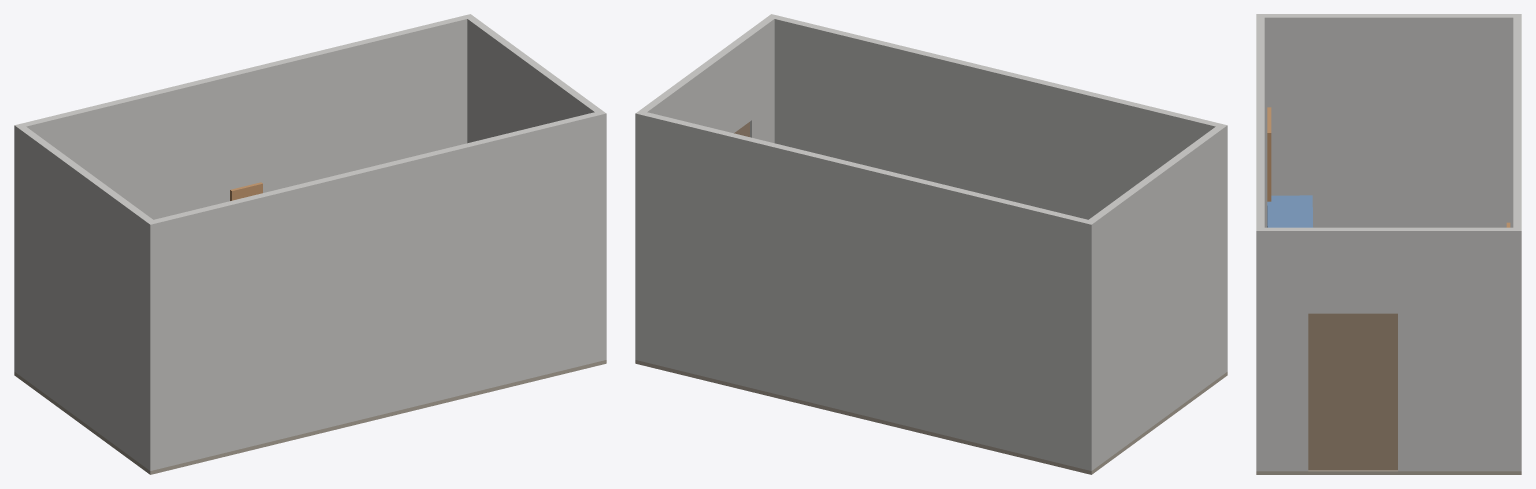
File: room_109.glb
3 renders of one model, left to right at view 1: azimuth 30°, elevation 25°; view 2: azimuth 150°, elevation 25°; view 3: azimuth 270°, elevation 25°, orthographic. The views are drawn at different scales.
Visible parts, largest first — view 1: shell_wall_0_s0, shell_wall_2_s0, shell_wall_3_s0, shell_wall_1_s2, shell_floor, shell_wall_1_s1, shell_wall_1_s0; view 2: shell_wall_2_s0, shell_wall_0_s0, shell_wall_3_s0, shell_wall_1_s2, shell_wall_1_s1, shell_wall_1_s0, shell_floor; view 3: shell_wall_3_s0, shell_wall_1_s2, shell_wall_1_door, shell_wall_1_s0, shell_wall_1_s1, shell_wall_0_s0, shell_wall_2_s0, obj_000, shell_floor, obj_007.
Part boxes in pixels (left/top/right/bottom): shell_wall_0_s0: left=146, top=111, right=606, bottom=470; shell_wall_2_s0: left=14, top=14, right=472, bottom=371; shell_wall_3_s0: left=14, top=123, right=157, bottom=470; shell_wall_1_s2: left=464, top=14, right=533, bottom=143; shell_floor: left=14, top=360, right=606, bottom=474; shell_wall_1_s1: left=526, top=60, right=579, bottom=128; shell_wall_1_s0: left=572, top=94, right=606, bottom=361; shell_wall_2_s0: left=635, top=110, right=1095, bottom=470; shell_wall_0_s0: left=767, top=14, right=1227, bottom=371; shell_wall_3_s0: left=1084, top=123, right=1227, bottom=470; shell_wall_1_s2: left=635, top=67, right=705, bottom=361; shell_wall_1_s1: left=699, top=33, right=751, bottom=133; shell_wall_1_s0: left=745, top=14, right=775, bottom=143; shell_floor: left=635, top=360, right=1227, bottom=474; shell_wall_3_s0: left=1256, top=14, right=1521, bottom=227; shell_wall_1_s2: left=1398, top=227, right=1521, bottom=471; shell_wall_1_door: left=1308, top=313, right=1397, bottom=470; shell_wall_1_s0: left=1256, top=227, right=1308, bottom=471; shell_wall_1_s1: left=1308, top=227, right=1397, bottom=313; shell_wall_0_s0: left=1256, top=14, right=1264, bottom=471; shell_wall_2_s0: left=1513, top=14, right=1521, bottom=471; obj_000: left=1267, top=195, right=1312, bottom=227; shell_floor: left=1256, top=470, right=1521, bottom=474; obj_007: left=1267, top=107, right=1271, bottom=201.
Bounding box in the file's own units: 6.2 × 3.25 × 3.2.
